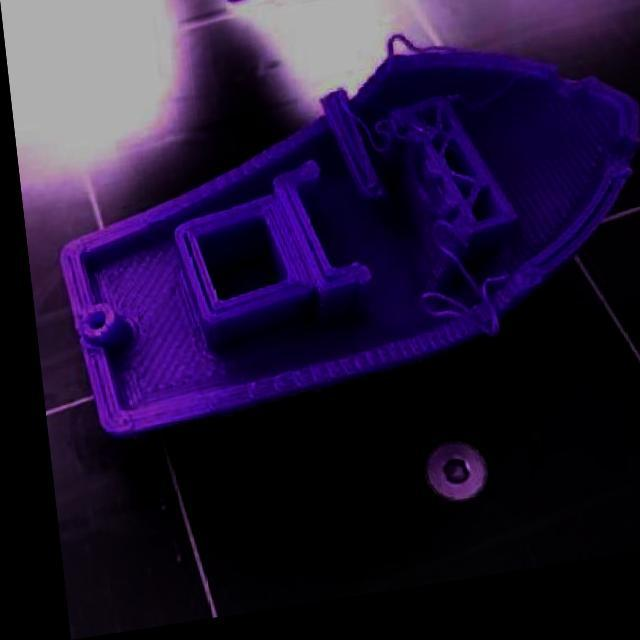spaghetti: (400, 217, 506, 362), (334, 96, 434, 182), (376, 34, 459, 92)
